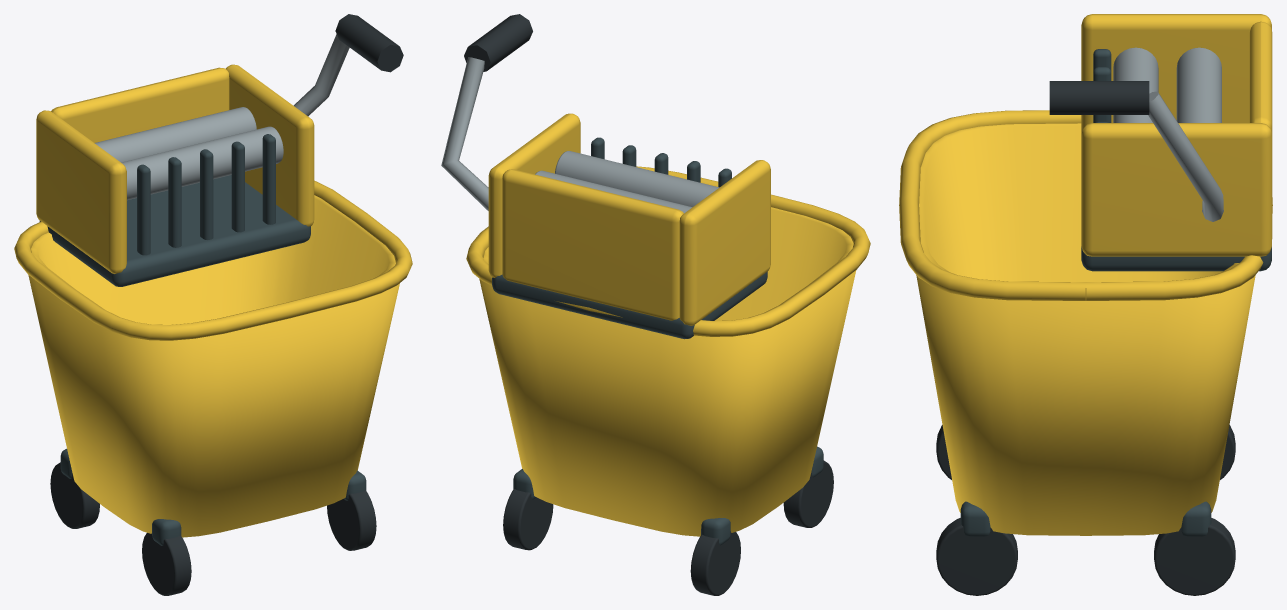
Rendered from HotelTogether-MopBucket.glb.
The picture shows the model from 3 angles, left to right: view 1: azimuth 30°, elevation 25°; view 2: azimuth 150°, elevation 25°; view 3: azimuth 270°, elevation 25°; orthographic projection. The views are drawn at different scales.
Parts seen in each view (by area): view 1: Bucket_HollowShell, Bucket_WringerBase, Bucket_WringerSide, Bucket_Rim, Bucket_WringerBack, Bucket_WringerSide.001, Bucket_WringerRoller, Bucket_WringerRoller.001, Bucket_Wheel, Bucket_Wheel.002, Bucket_LeverGrip, Bucket_Wheel.001 (+7 smaller); view 2: Bucket_HollowShell, Bucket_WringerBack, Bucket_WringerSide, Bucket_Rim, Bucket_WringerSide.001, Bucket_WringerRoller, Bucket_WringerBase, Bucket_WringerLever, Bucket_Wheel.001, Bucket_Wheel.003, Bucket_LeverGrip, Bucket_Wheel (+2 smaller); view 3: Bucket_HollowShell, Bucket_WringerSide.001, Bucket_Rim, Bucket_WringerSide, Bucket_Wheel.002, Bucket_Wheel.003, Bucket_LeverGrip, Bucket_WringerRoller.001, Bucket_WringerLever, Bucket_WringerBase, Bucket_WringerBack, Bucket_WringerRoller (+2 smaller).
Boxes of the visible parts, x1,y1,x2,y2 form: Bucket_HollowShell: [28, 195, 399, 537]; Bucket_WringerBase: [39, 175, 310, 286]; Bucket_WringerSide: [36, 110, 126, 273]; Bucket_Rim: [14, 180, 412, 340]; Bucket_WringerBack: [51, 67, 229, 142]; Bucket_WringerSide.001: [225, 64, 314, 226]; Bucket_WringerRoller: [121, 126, 283, 200]; Bucket_WringerRoller.001: [94, 107, 256, 162]; Bucket_Wheel: [142, 533, 191, 595]; Bucket_Wheel.002: [327, 490, 376, 550]; Bucket_LeverGrip: [335, 14, 403, 72]; Bucket_Wheel.001: [50, 462, 99, 528]; Bucket_HollowShell: [479, 207, 856, 536]; Bucket_WringerBack: [502, 169, 683, 320]; Bucket_WringerSide: [679, 160, 770, 325]; Bucket_Rim: [466, 166, 870, 336]; Bucket_WringerSide.001: [488, 113, 580, 277]; Bucket_WringerRoller: [555, 151, 719, 206]; Bucket_WringerBase: [492, 271, 767, 339]; Bucket_WringerLever: [441, 57, 488, 210]; Bucket_Wheel.001: [690, 531, 740, 595]; Bucket_Wheel.003: [503, 489, 553, 550]; Bucket_LeverGrip: [464, 14, 532, 71]; Bucket_Wheel: [783, 460, 833, 527]; Bucket_HollowShell: [916, 123, 1255, 535]; Bucket_WringerSide.001: [1081, 123, 1271, 256]; Bucket_Rim: [899, 110, 1272, 300]; Bucket_WringerSide: [1081, 14, 1271, 133]; Bucket_Wheel.002: [936, 518, 1017, 595]; Bucket_Wheel.003: [1154, 518, 1235, 595]; Bucket_LeverGrip: [1049, 81, 1149, 114]; Bucket_WringerRoller.001: [1176, 47, 1221, 122]; Bucket_WringerLever: [1148, 91, 1223, 221]; Bucket_WringerBase: [1081, 246, 1271, 271]; Bucket_WringerBack: [1249, 21, 1272, 238]; Bucket_WringerRoller: [1113, 47, 1158, 122].
Size of the model in its own units: 0.501 by 0.67 by 0.412.
